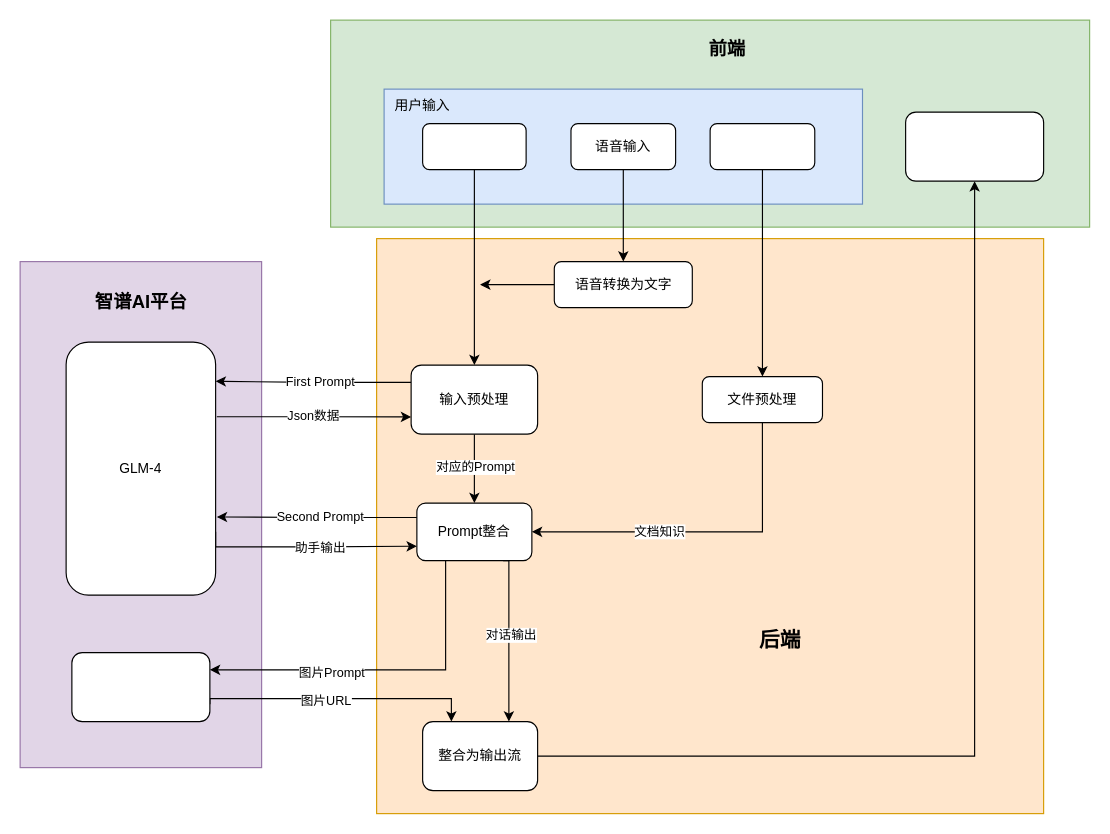
Image size: 1110x834. Some labels were removed from this diagram. Here are the shapes that lost their labels. From the top down, the centre of each, then its label:
At [473,146]: "文字输入".
At [762,146]: "文件上传".
At [974,146]: "聊天框输出".
At [140,686]: "CogView".
